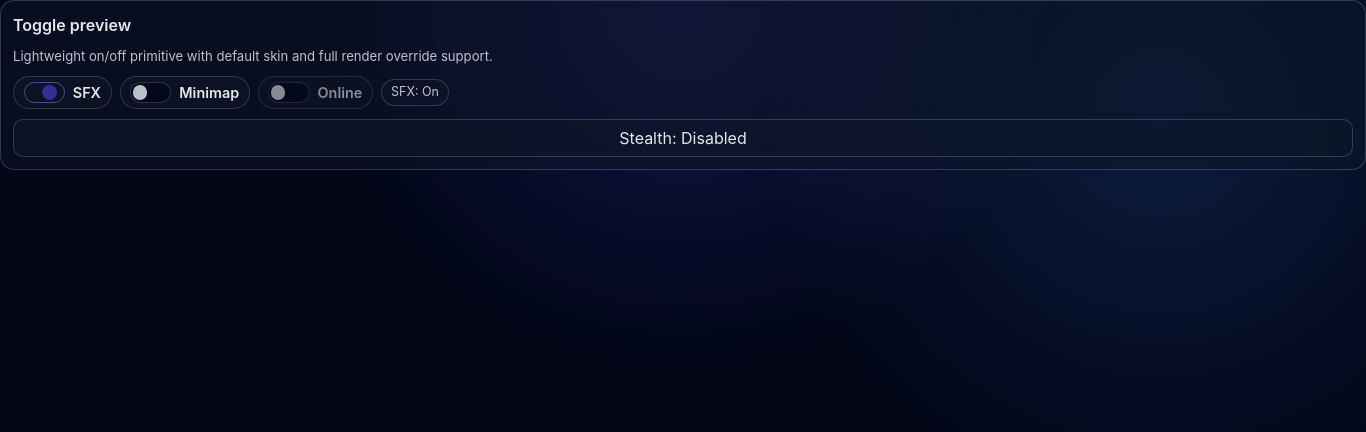
ToggleExample › renders toggles and updates status text when toggled
expect the text "SFX: On" is shown: met, box [381,79,449,106]
Click the switch labelled "SFX".
click(62, 92)  # box [13,76,112,109]
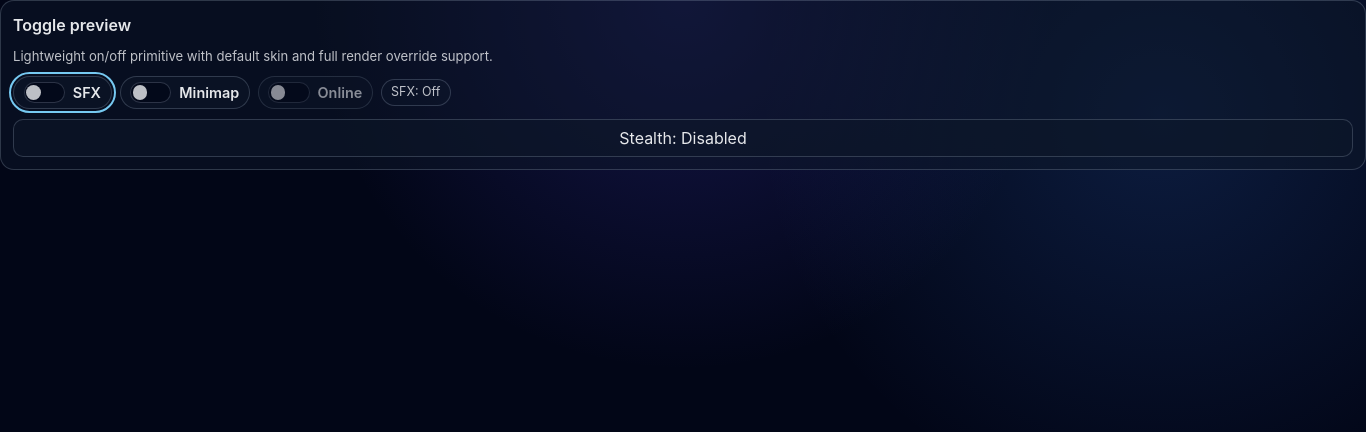
expect the text "SFX: Off" is shown: met, box [381,79,451,106]
Click the button "Stealth: Disabled".
click(683, 138)  # box [13,119,1353,157]
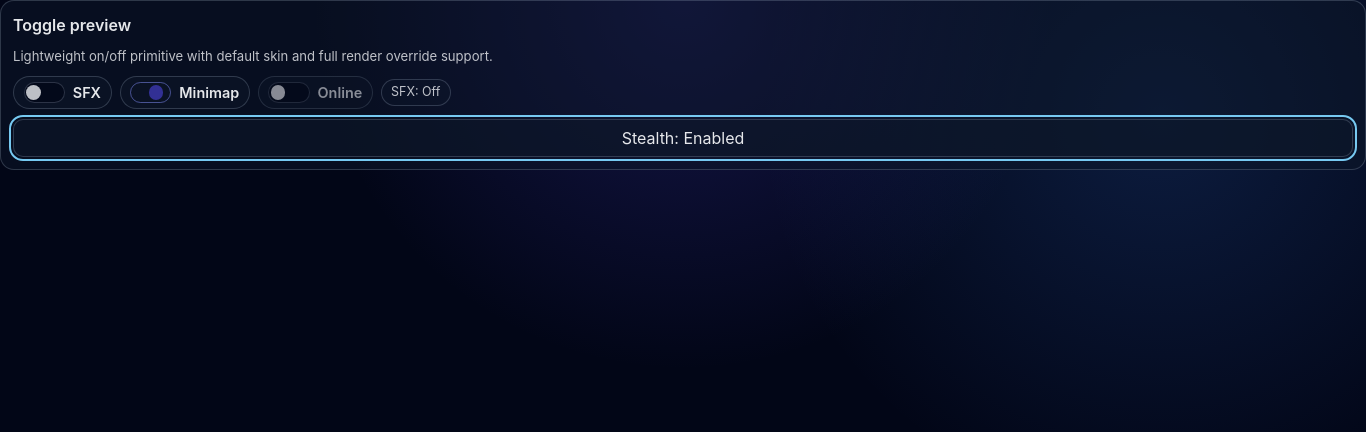
expect the button "Stealth: Enabled" is shown: met, box [13,119,1353,157]
